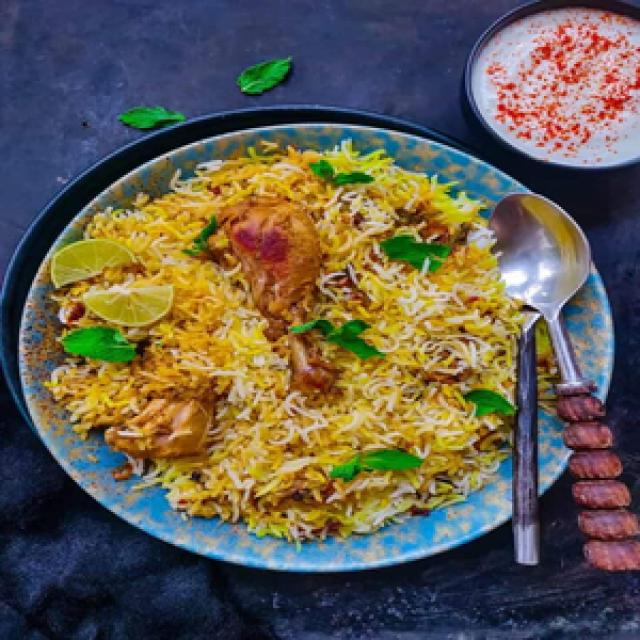chicken biriyani: (41, 132, 546, 548)
